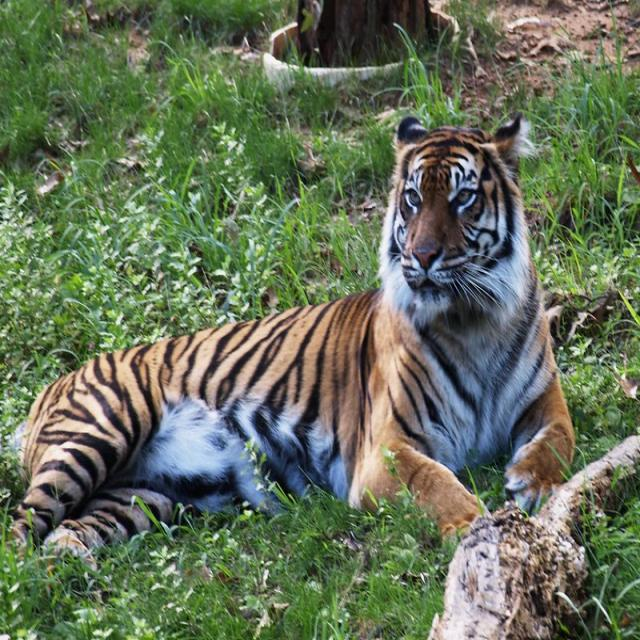Tiger: (7, 108, 576, 570)
